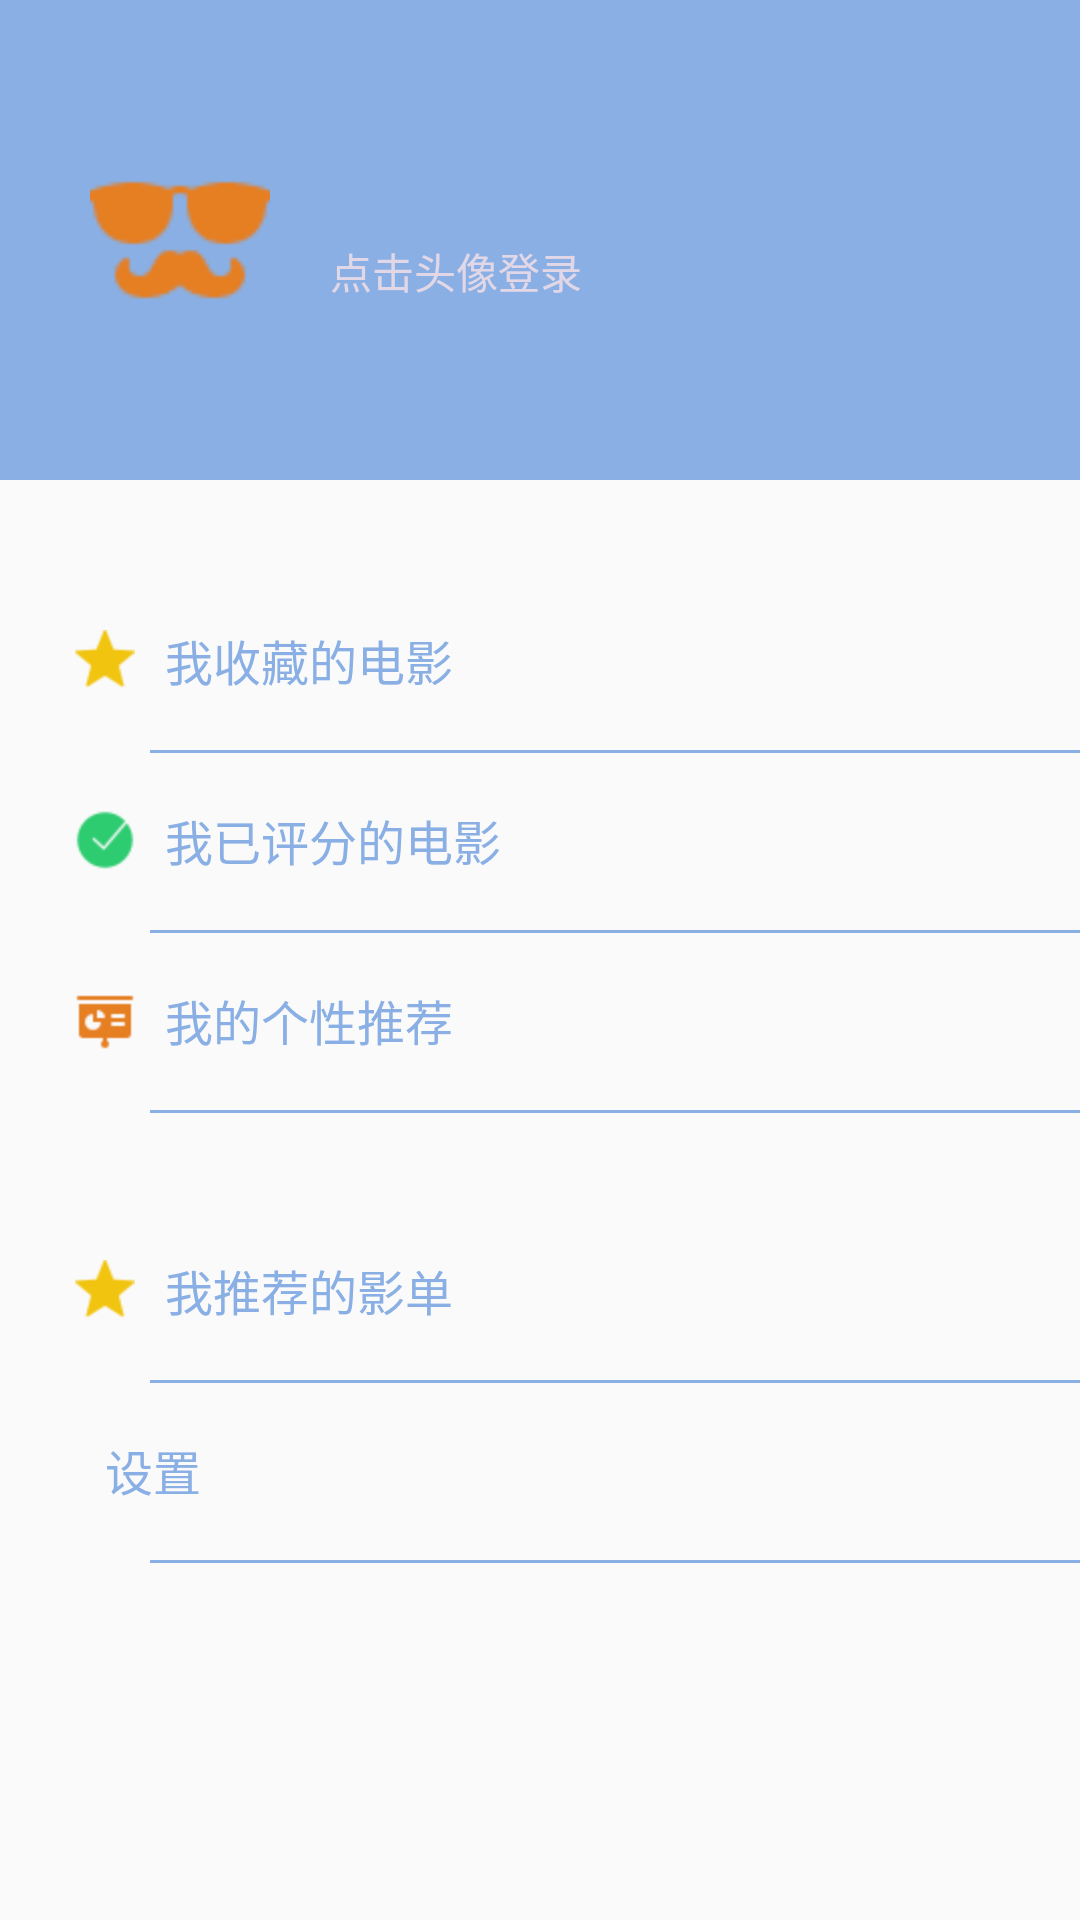

Screen size 1080 x 1920. Icon name, then its center in pixels as (x,y):
collection: (105,659), (105,1289)
havemarked: (105,840)
recommend: (105,1022)
usericon: (180,240)
